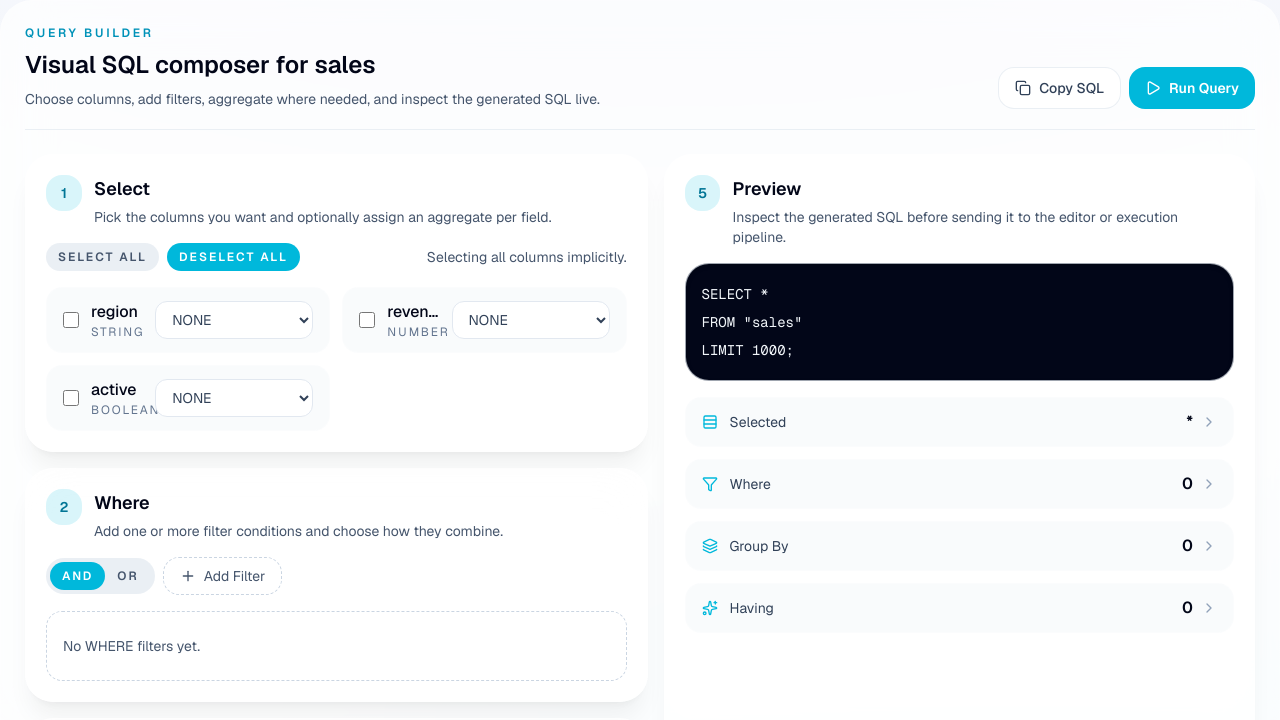
it: QueryBuilder › supports null-aware filters and shows empty states for optional sections
Expected: the text "No WHERE filters yet." is shown, [46,611,627,681]
Click the button "Add Filter" at (222, 576), box [163,557,282,595]
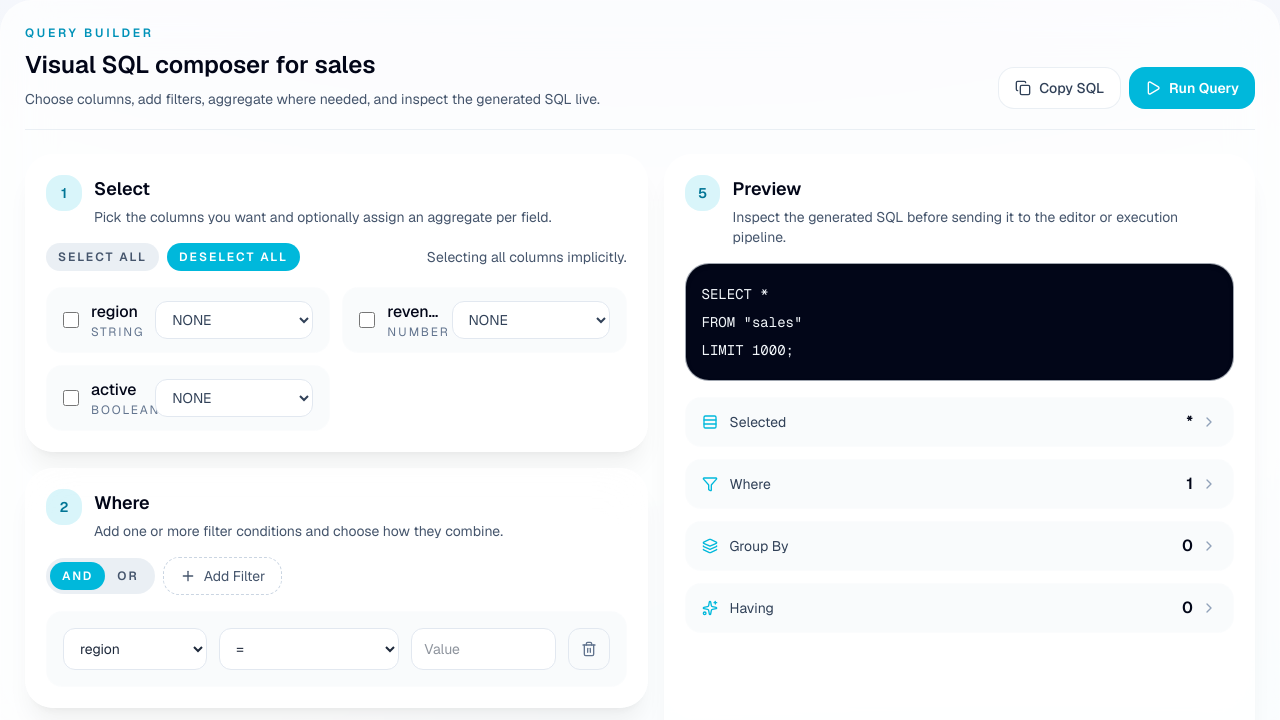
Select "IS NULL" in the 5th dropdown showing "=" at (309, 649), box [219,628,399,670]
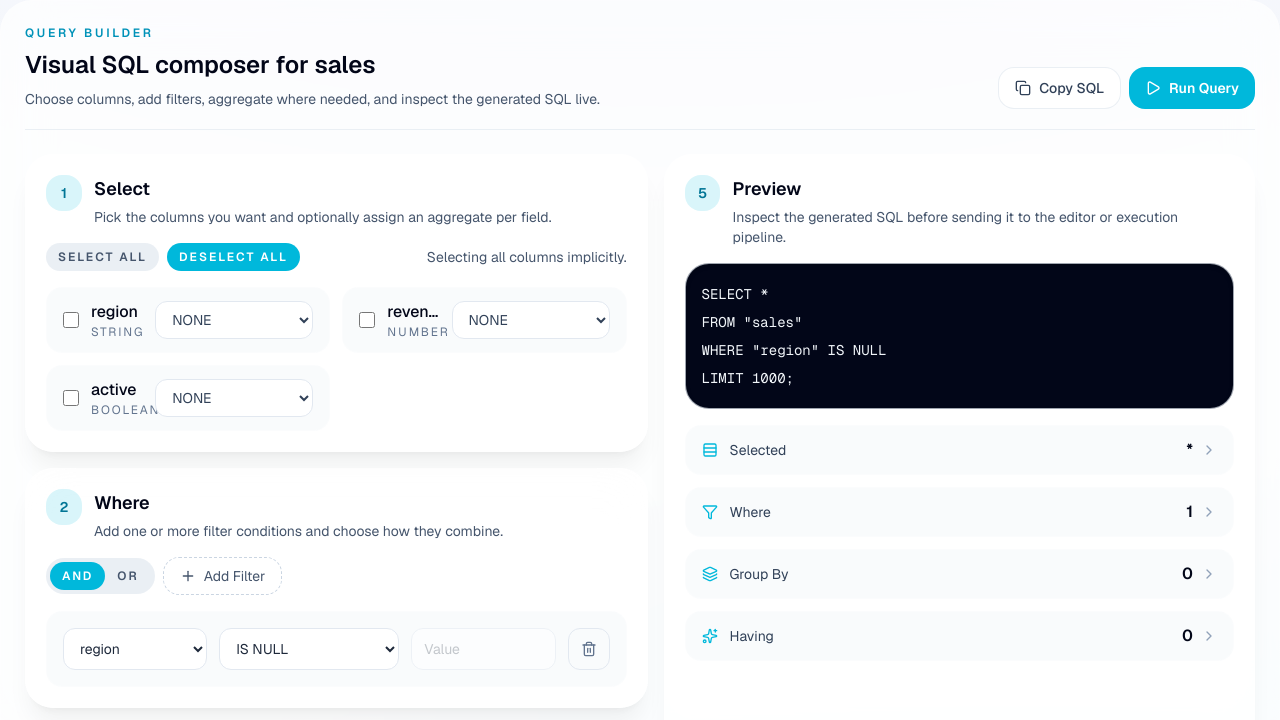
Expected: the field with placeholder "Value" is disabled, [411,628,556,670]
Expected: the text "SELECT * FROM \"sales\" WHERE \"region\" IS NULL LIMIT 1000;" is shown, [702,285,886,387]
